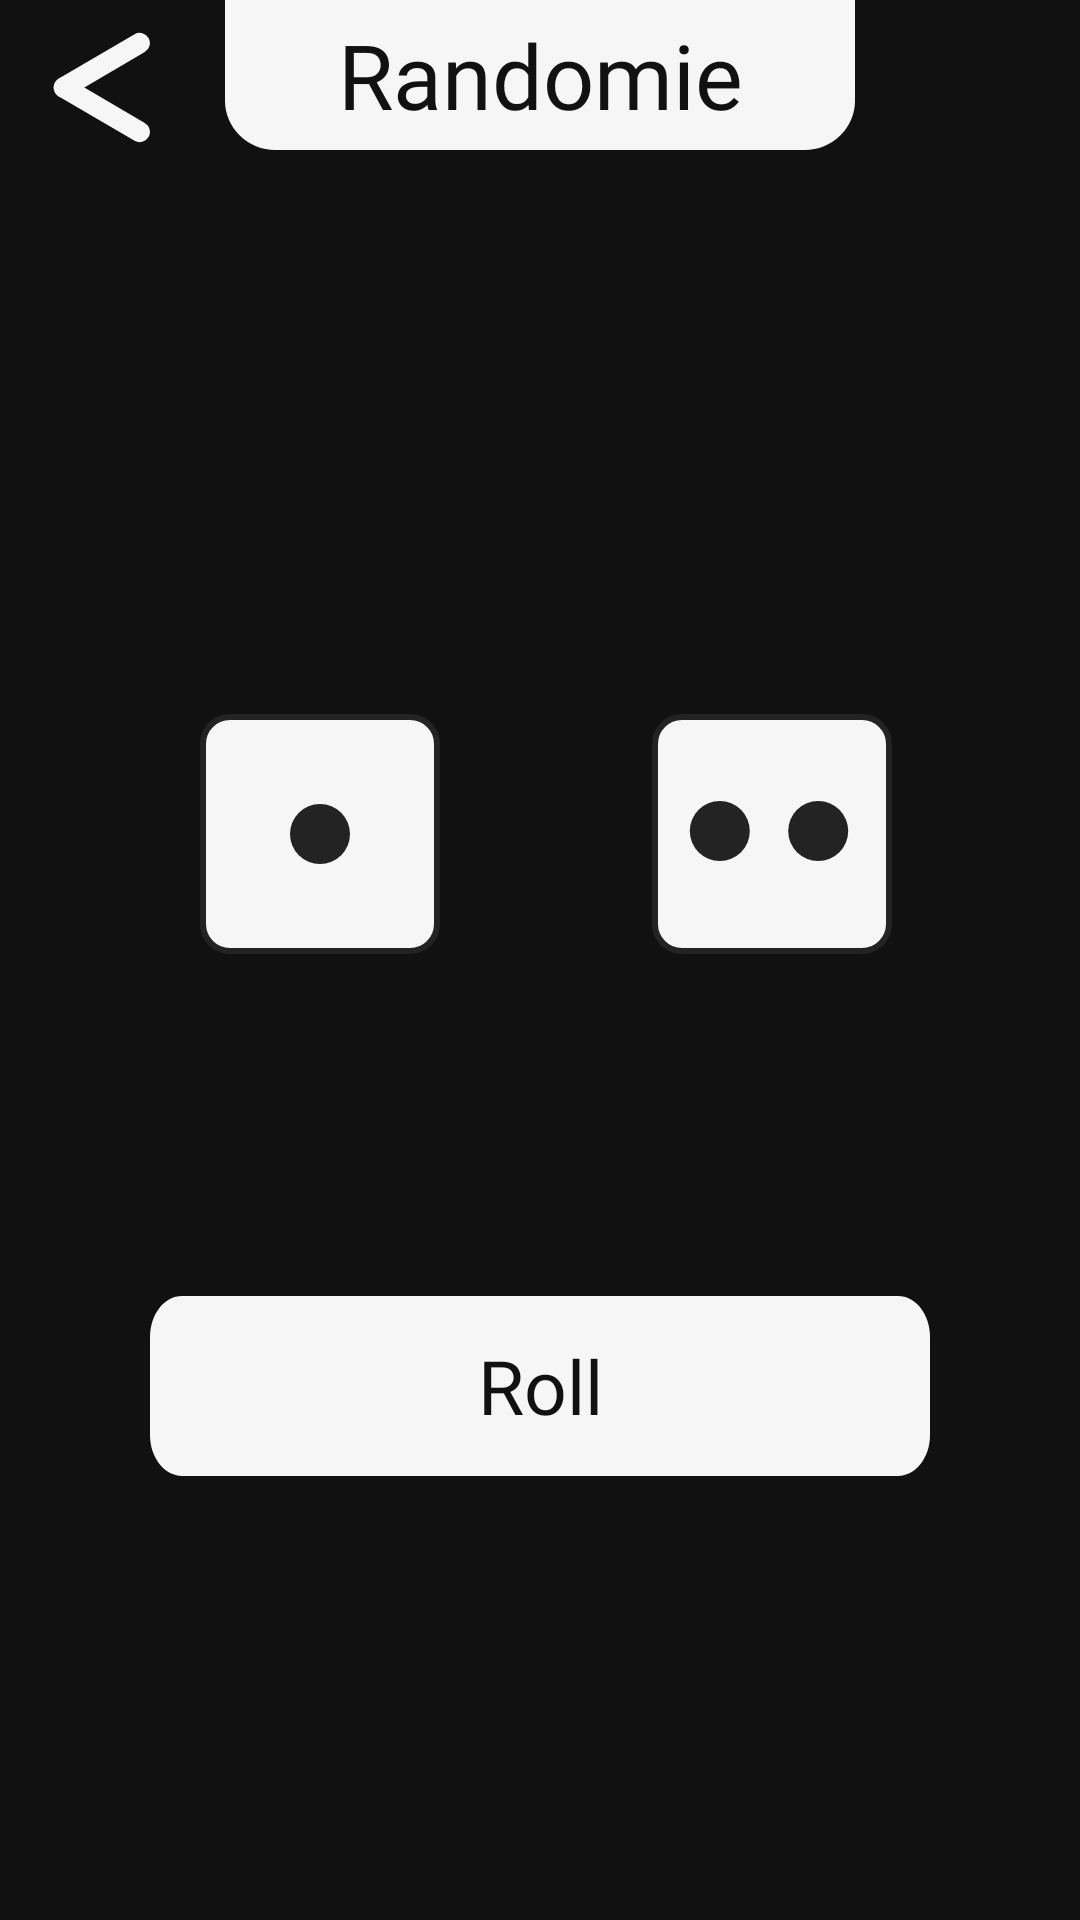

Screen size 1080x1920. Icon name, then its center in pixels as (x,y):
back: (101,87)
dice: (320,834), (772,834)
